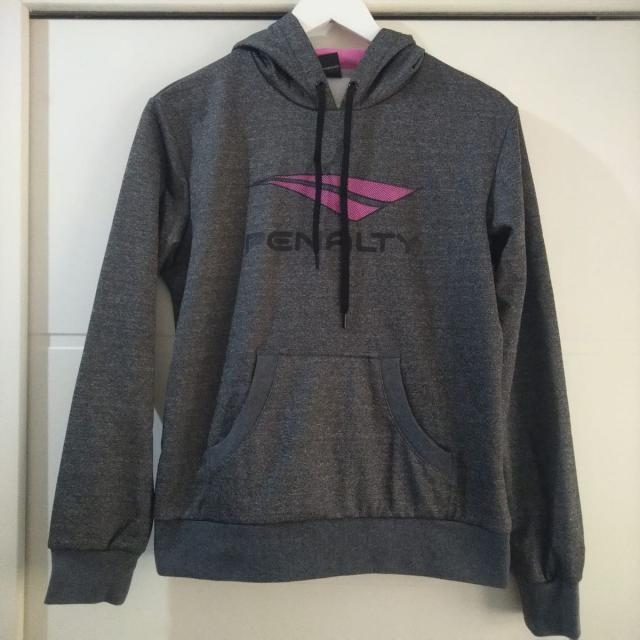sweater: (40, 12, 588, 640)
